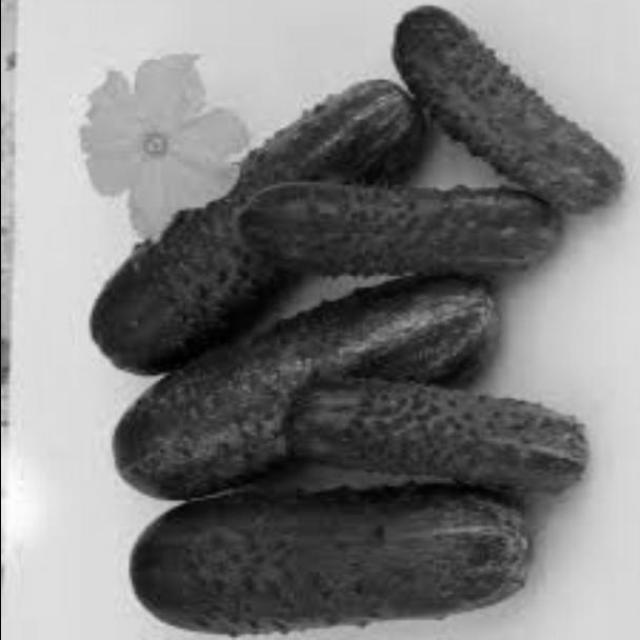dua chuot: (66, 58, 428, 390), (105, 259, 510, 514), (110, 459, 574, 640), (390, 0, 639, 216), (280, 378, 606, 498), (228, 173, 572, 284)
